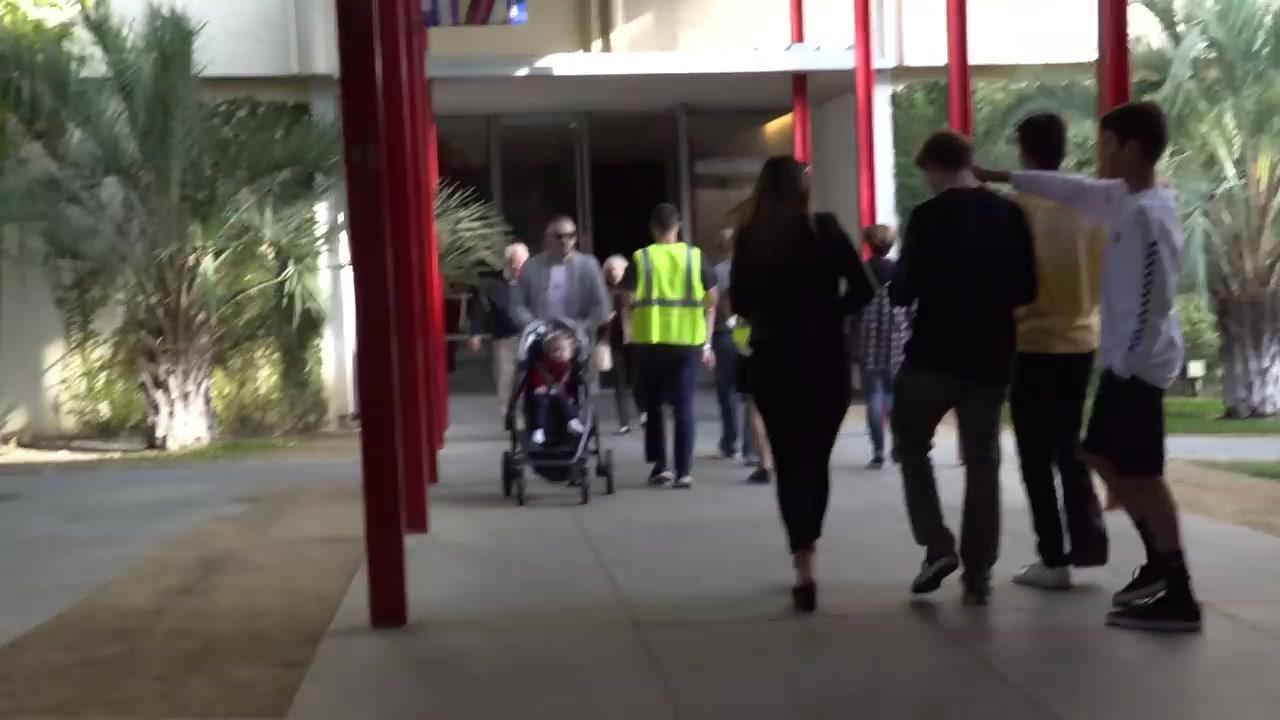vest: (625, 241, 705, 348)
